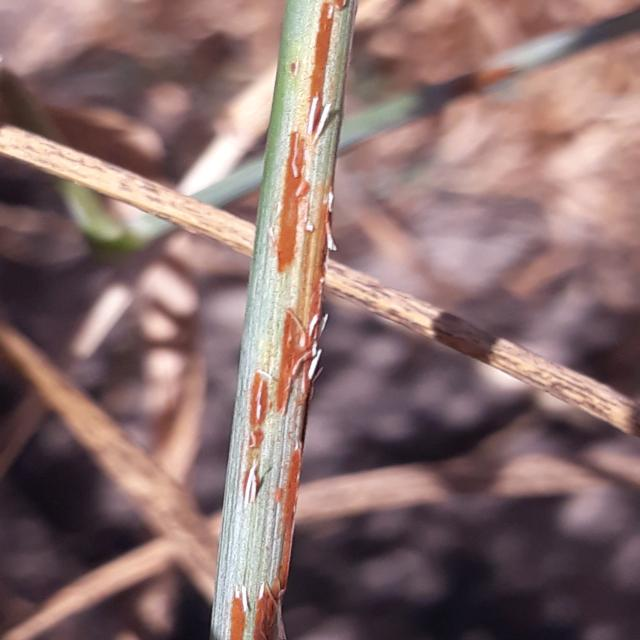black_stem_rust: (190, 0, 426, 640)
